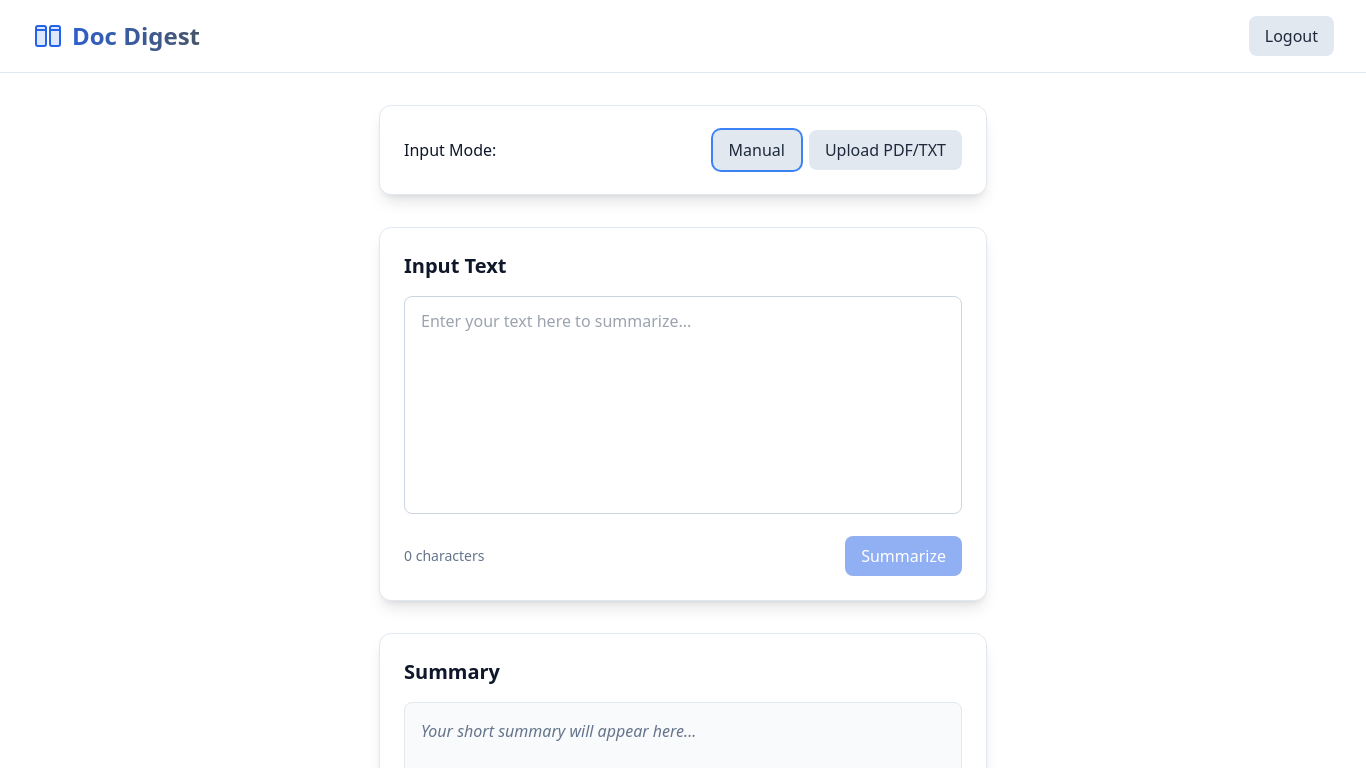
Home Component › switches between manual and file input modes
Click the button "Upload PDF/TXT" at (885, 150), box [809,130,962,170]
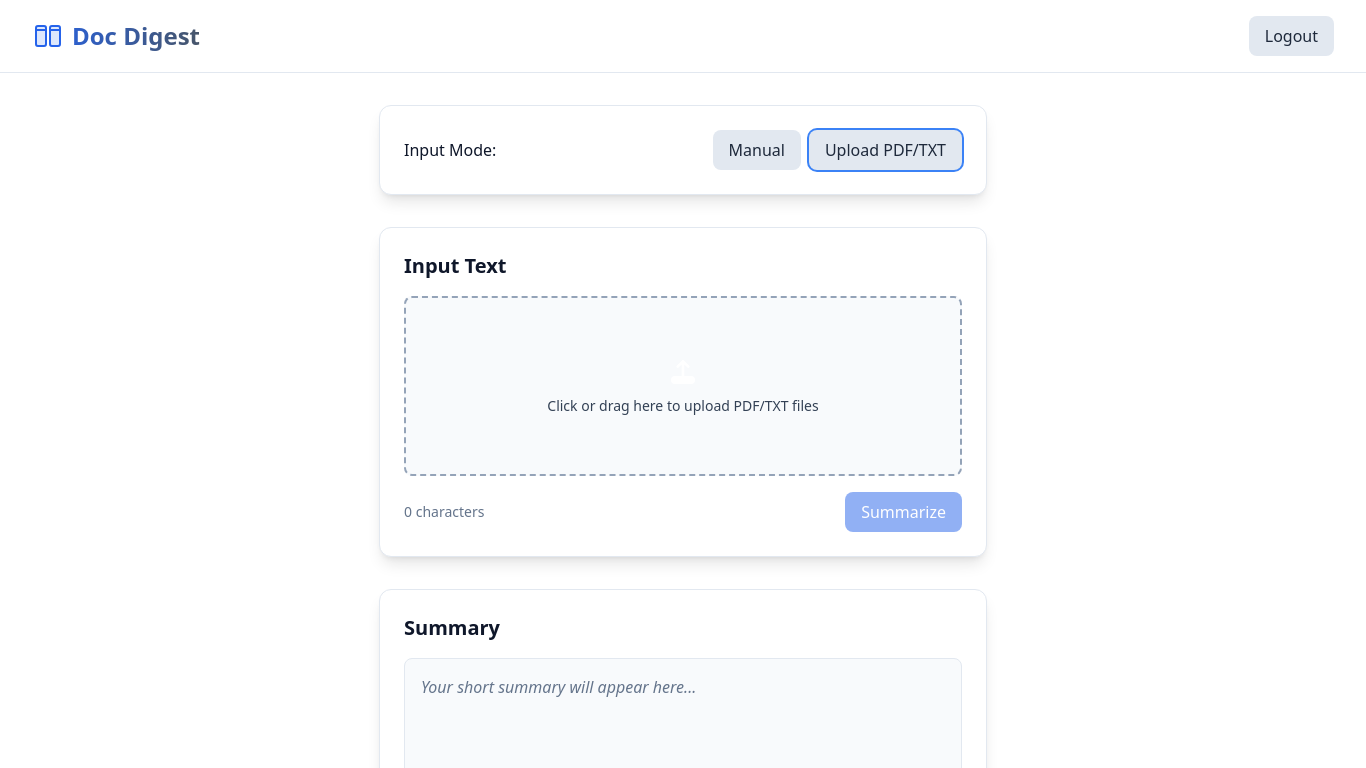
expect the text "Click or drag here to upload PDF/TXT files" is shown: met, box [547,396,819,416]
Click the button "Manual" at (757, 150), box [712,130,801,170]
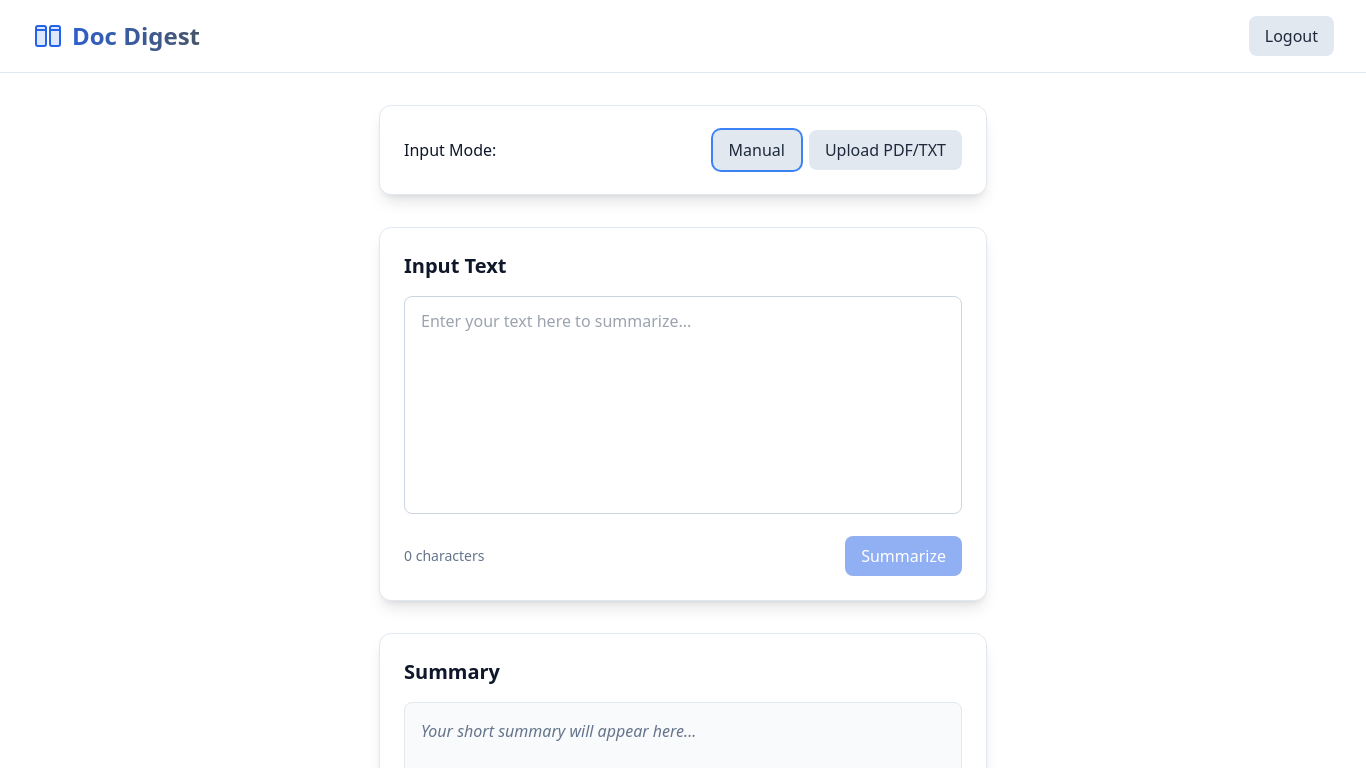
expect the text box with placeholder "Enter your text here to summarize..." is shown: met, box [404,296,962,514]
